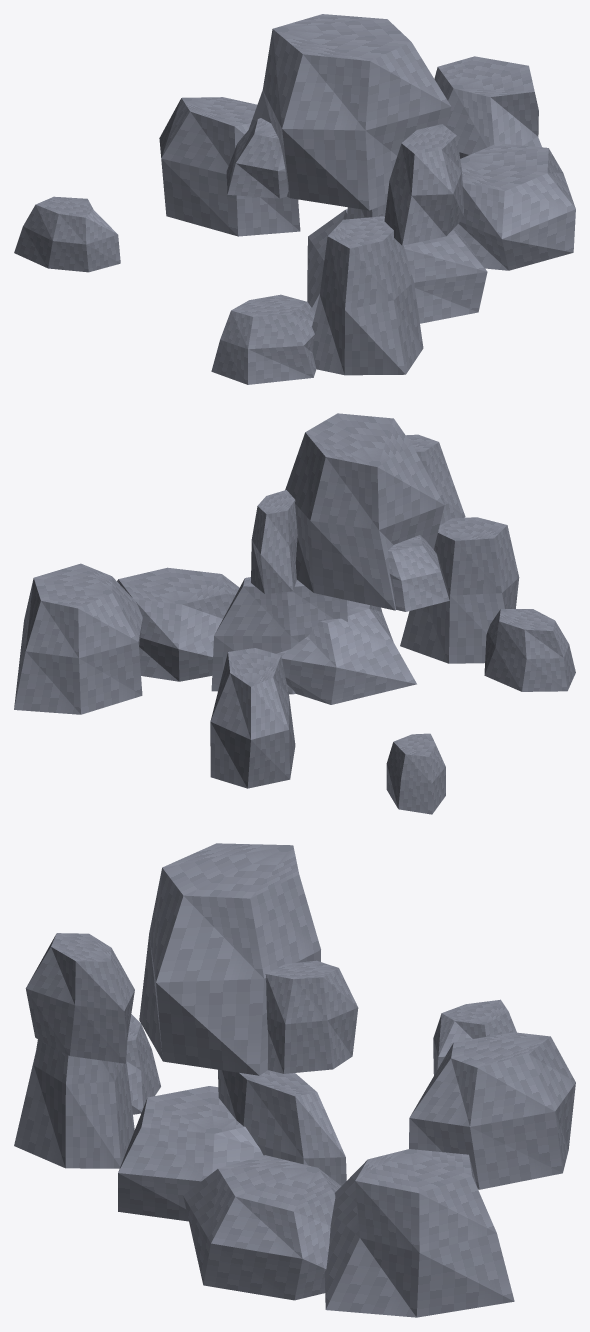
Rendered from cave-and-crystal-networks-boulder-choke-a2c433c4.glb.
3 renders of one model, top to bottom at view 1: azimuth 30°, elevation 25°; view 2: azimuth 150°, elevation 25°; view 3: azimuth 270°, elevation 25°, orthographic. The views are drawn at different scales.
Parts seen in each view (by area): view 1: boulder-choke; view 2: boulder-choke; view 3: boulder-choke.
Boxes of the visible parts, x1=… form: boulder-choke: x1=14, y1=14, x2=575, y2=384; boulder-choke: x1=14, y1=413, x2=575, y2=814; boulder-choke: x1=14, y1=843, x2=575, y2=1317.
Bounding box in the file's own units: 2.1 × 1.08 × 1.87.
Materials: 1 (1 with a texture image).
